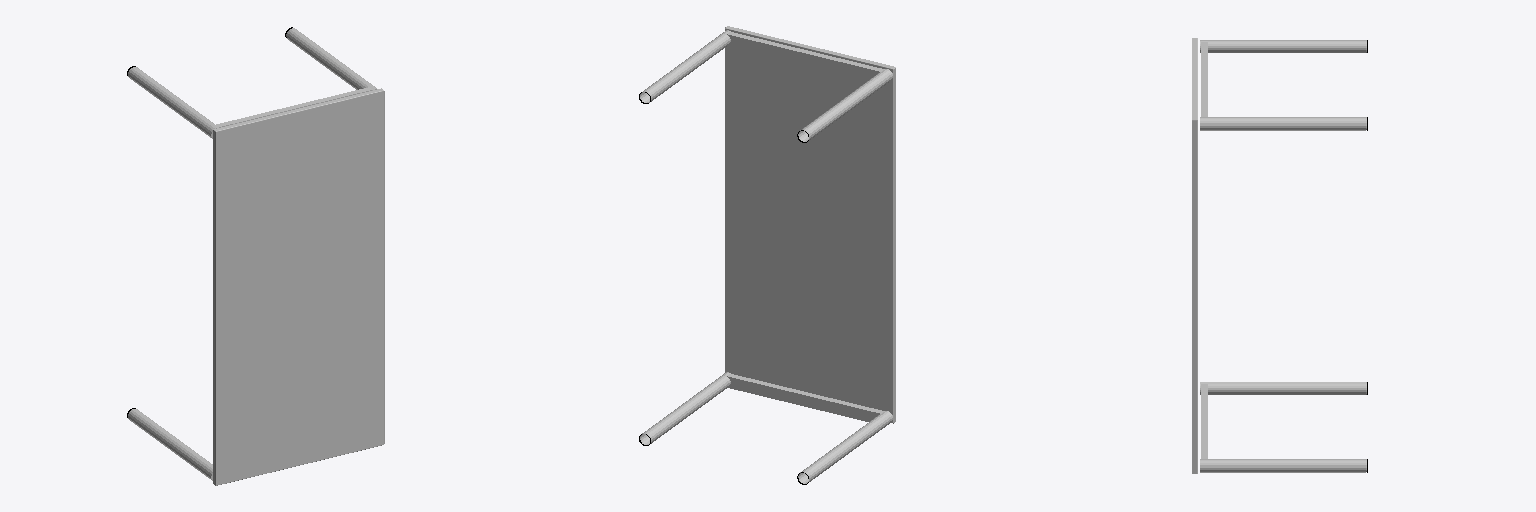
File: Table02.obj
The picture shows the model from 3 angles: view 1: azimuth 30°, elevation 25°; view 2: azimuth 150°, elevation 25°; view 3: azimuth 270°, elevation 25°; orthographic projection.
Parts seen in each view (by area): view 1: Table02; view 2: Table02; view 3: Table02.
Boxes of the visible parts, box(x1,y1,x2,y2) form: Table02: box(127, 27, 384, 485); Table02: box(639, 26, 895, 484); Table02: box(1192, 38, 1367, 473).
Bounding box in the file's own units: 0.7988 × 1.59 × 0.72.